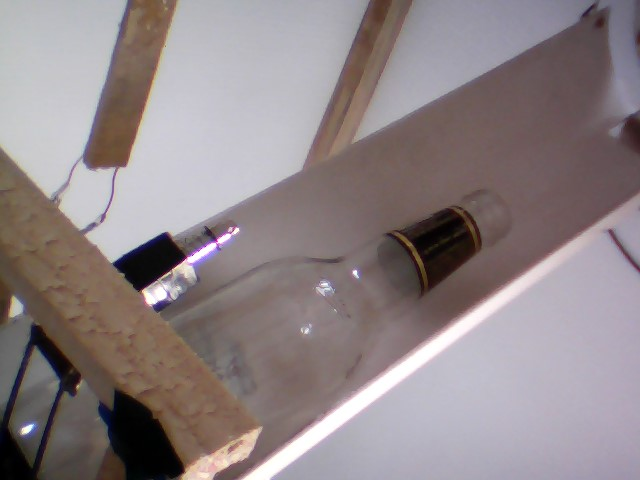vidrio: (170, 179, 530, 433)
